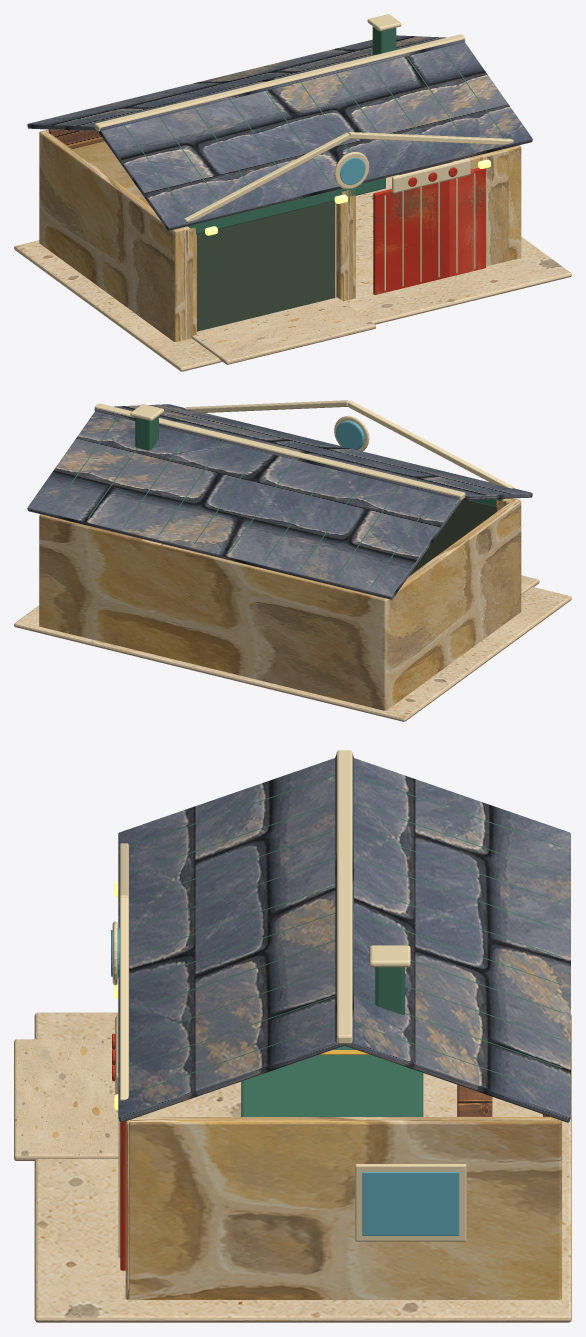
Rendered from bracken_workshop.glb.
3 renders of one model, top to bottom at view 1: azimuth 30°, elevation 25°; view 2: azimuth 150°, elevation 25°; view 3: azimuth 270°, elevation 25°, orthographic. The views are drawn at different scales.
Visible parts, largest first — view 1: Secondary painted slate, Secondary painted limestone, Secondary painted concrete, Secondary warm interior, Secondary painted red enamel, Secondary warm cream trim, Secondary deep forest frame, Secondary painted chestnut, Secondary sky-blue glass; view 2: Secondary painted limestone, Secondary painted slate, Secondary painted concrete, Secondary warm cream trim, Secondary deep forest frame, Secondary warm interior, Secondary sky-blue glass; view 3: Secondary painted slate, Secondary painted limestone, Secondary painted concrete, Secondary deep forest frame, Secondary warm cream trim, Secondary sky-blue glass, Secondary painted red enamel, Secondary painted chestnut.
Part boxes in pixels (x1,y1,x2,y2): Secondary painted slate: (27,35,532,230); Secondary painted limestone: (39,129,521,341); Secondary painted concrete: (14,174,571,371); Secondary warm interior: (197,201,335,331); Secondary painted red enamel: (373,167,485,294); Secondary warm cream trim: (94,14,513,290); Secondary deep forest frame: (53,26,505,234); Secondary painted chestnut: (48,129,104,148); Secondary sky-blue glass: (340,157,365,184); Secondary painted limestone: (39,498,521,710); Secondary painted slate: (27,404,532,599); Secondary painted concrete: (14,575,571,721); Secondary warm cream trim: (94,400,513,500); Secondary deep forest frame: (52,409,506,586); Secondary warm interior: (409,500,497,575); Secondary sky-blue glass: (336,420,364,449); Secondary painted slate: (118,754,570,1122); Secondary painted limestone: (125,1116,561,1299); Secondary painted concrete: (14,1012,571,1322); Secondary deep forest frame: (129,775,562,1116); Secondary warm cream trim: (112,750,466,1257); Secondary sky-blue glass: (111,928,459,1235); Secondary painted red enamel: (112,1033,125,1270); Secondary painted chestnut: (457,1084,549,1116).
Bounding box in the file's own units: 17.5 × 8.29 × 13.5.
Materials: 11 (5 with a texture image).
